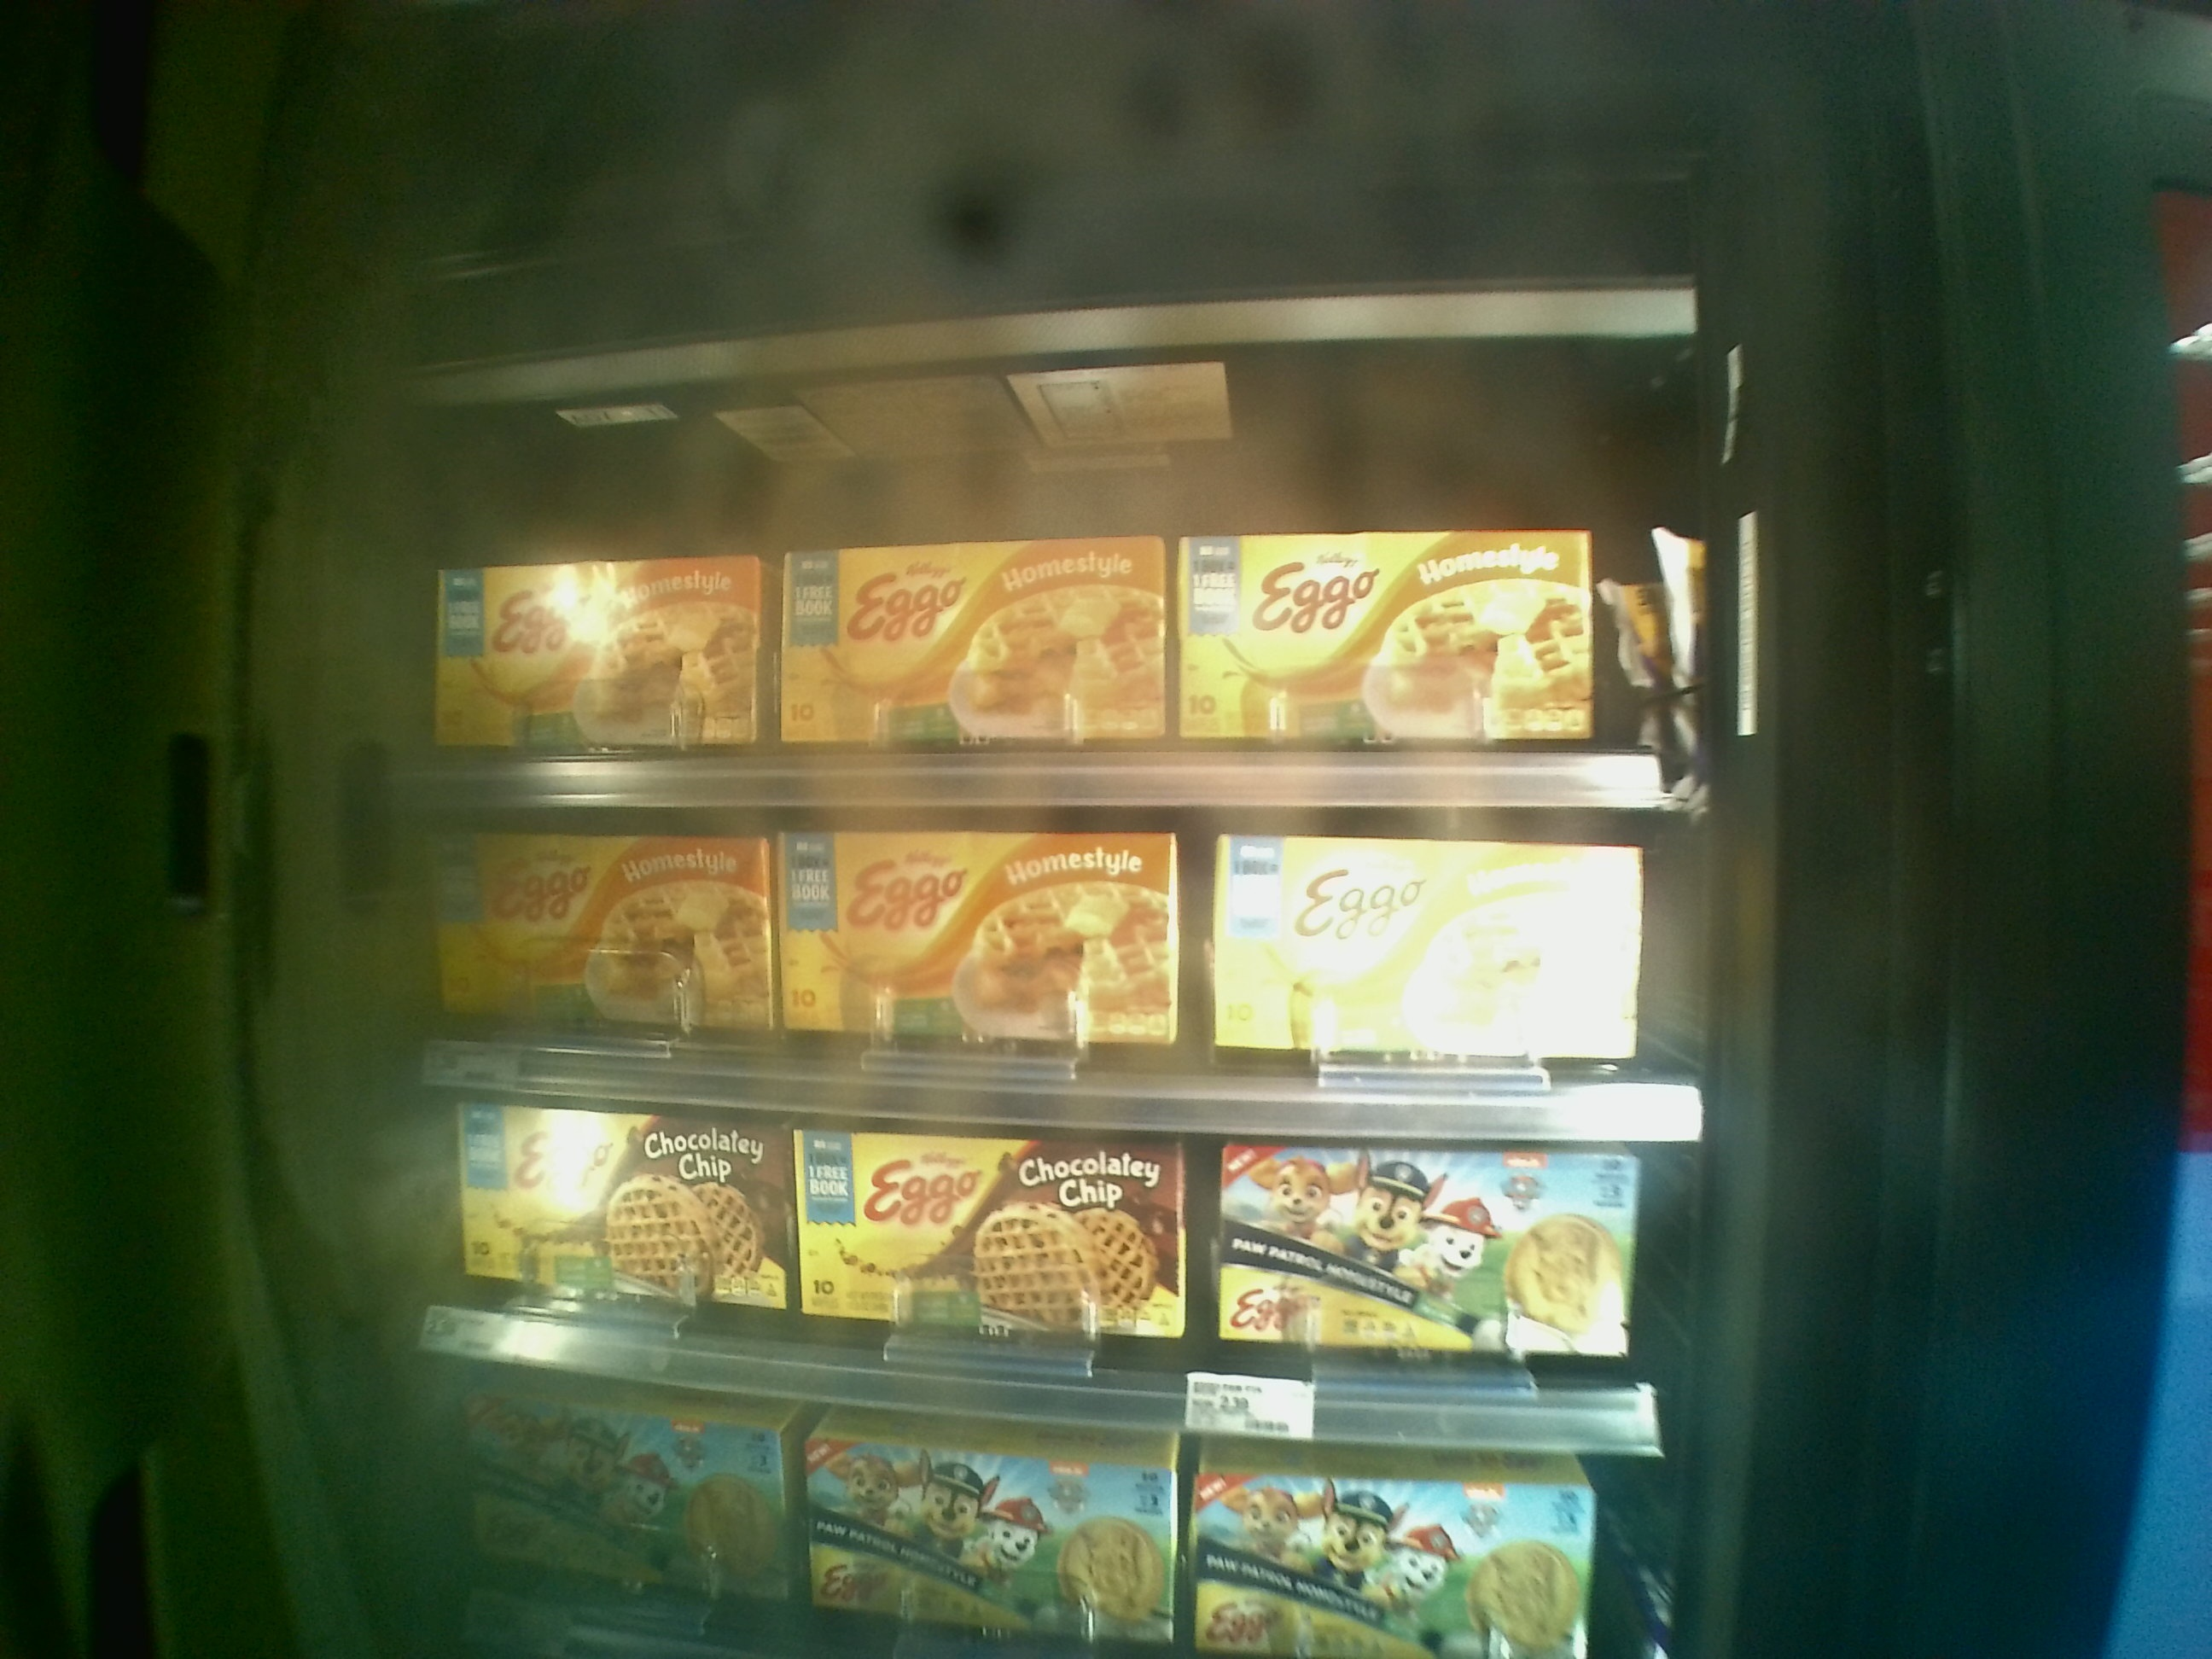frozen-food-shelf: (420, 802, 1740, 1138)
